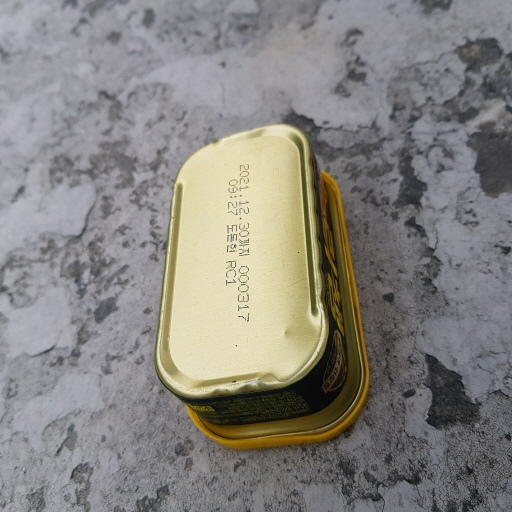Metal_2: (152, 123, 371, 449)
